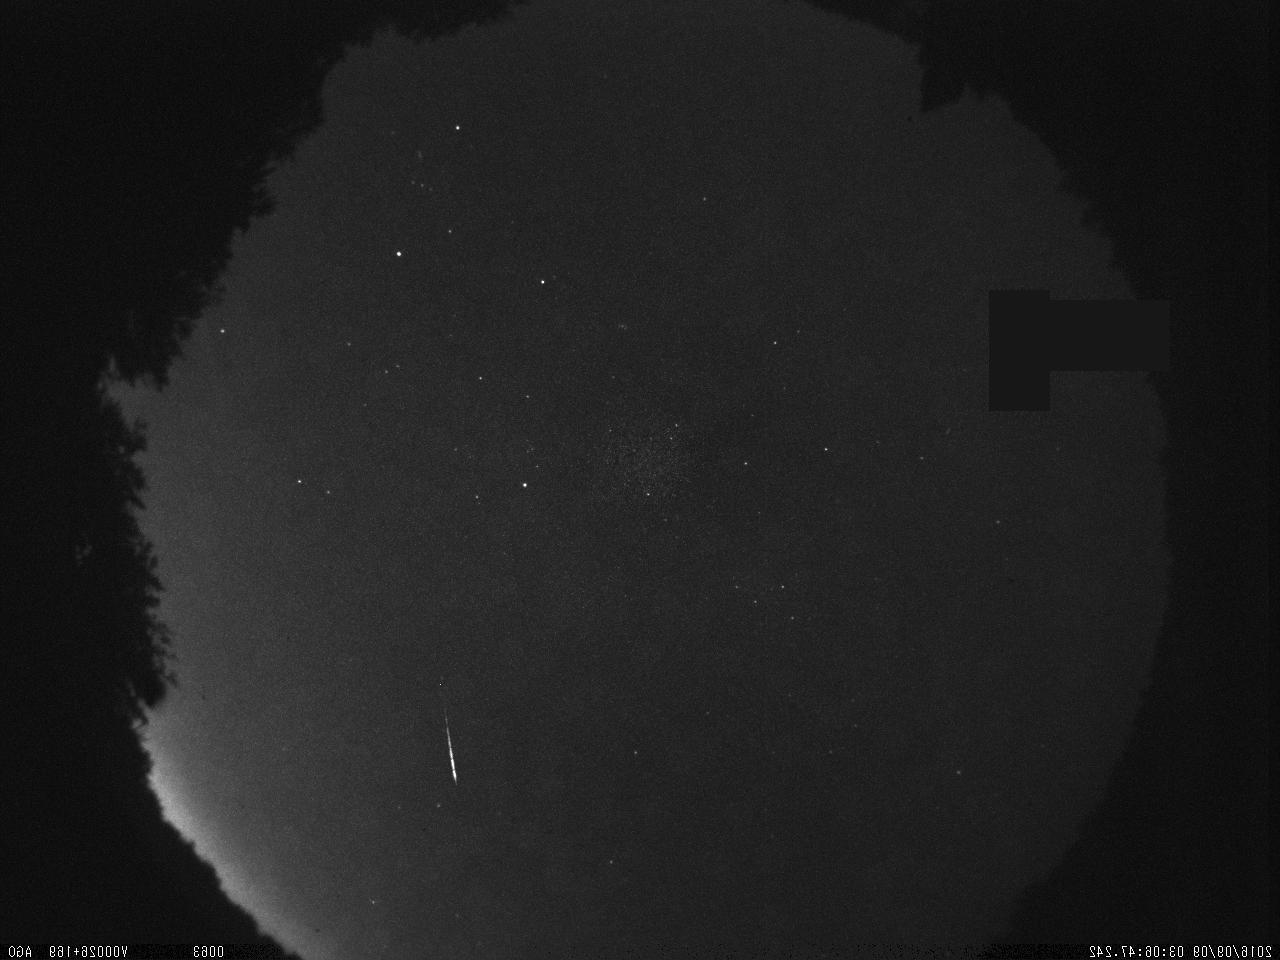meteor: (436, 694, 470, 795)
